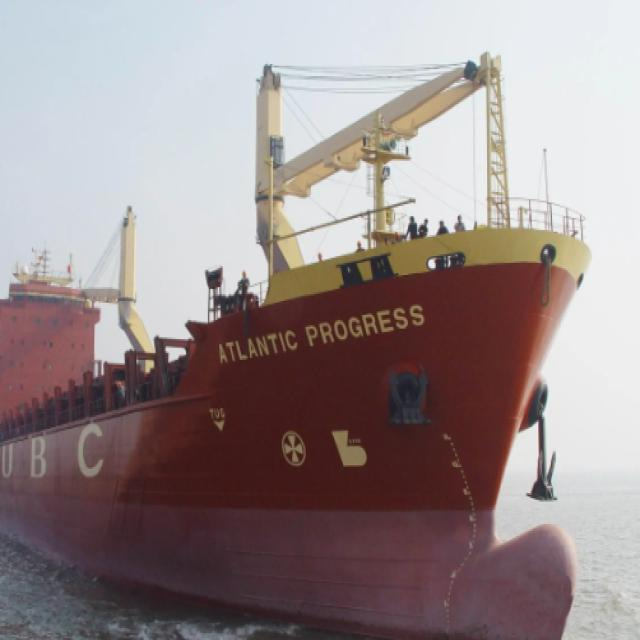cargoship: (0, 46, 600, 640)
